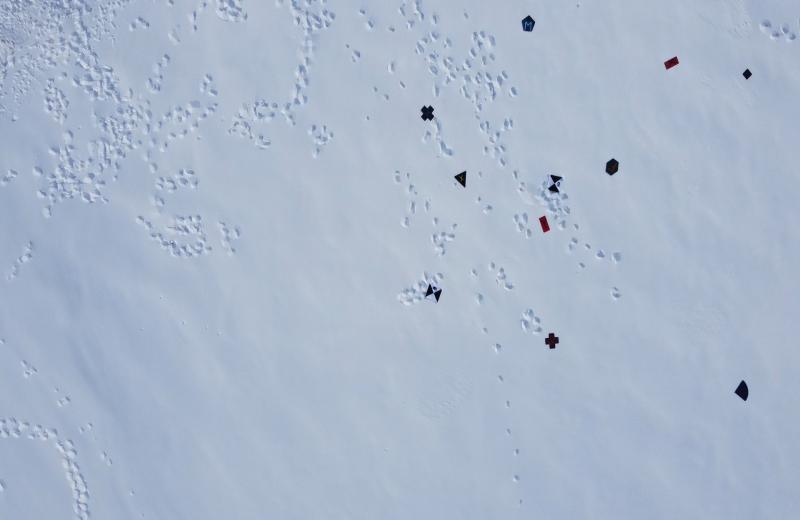Cross: (419, 104, 436, 122), (543, 330, 559, 349)
Hexagon: (604, 158, 620, 176)
Pentagon: (520, 15, 537, 33)
Quarter Circle: (734, 379, 751, 402)
Rectangle: (538, 215, 551, 234), (663, 56, 679, 71)
Square: (742, 69, 752, 81)
Triangle: (453, 170, 469, 190)
